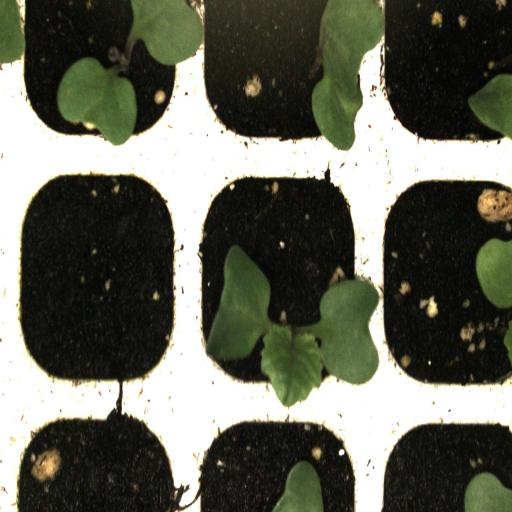noseedling: (12, 167, 187, 396)
seedling: (189, 167, 367, 402), (15, 0, 188, 167)
